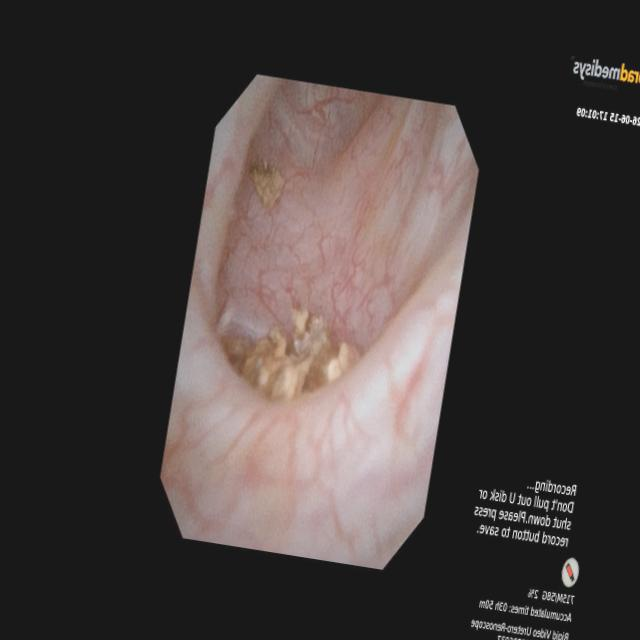stone-new: (223, 308, 359, 400), (252, 162, 284, 207)
